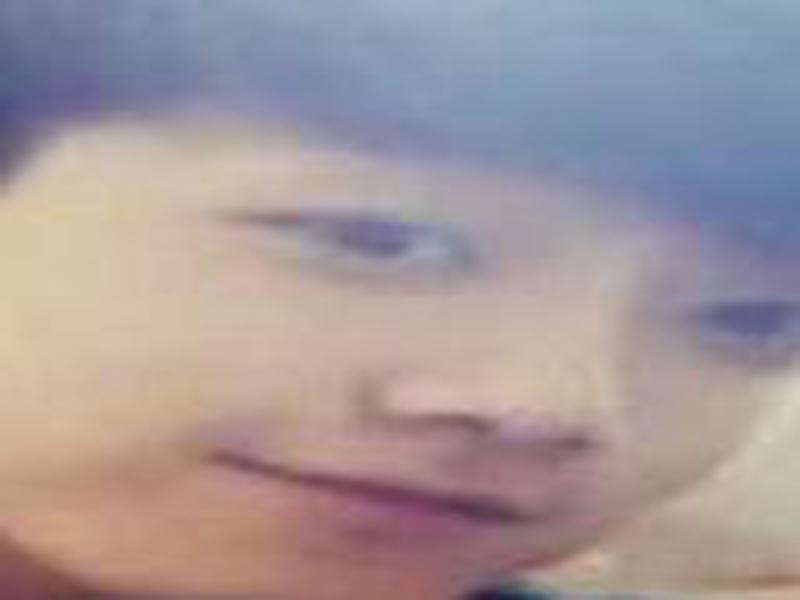without_mask: (25, 91, 800, 589)
